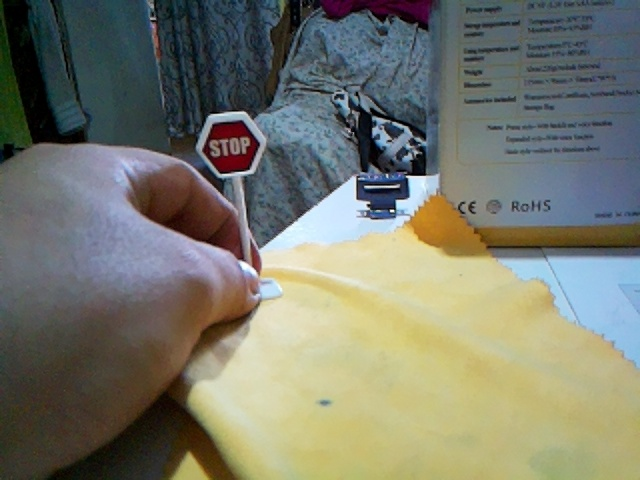stop_sign: (196, 111, 266, 180)
